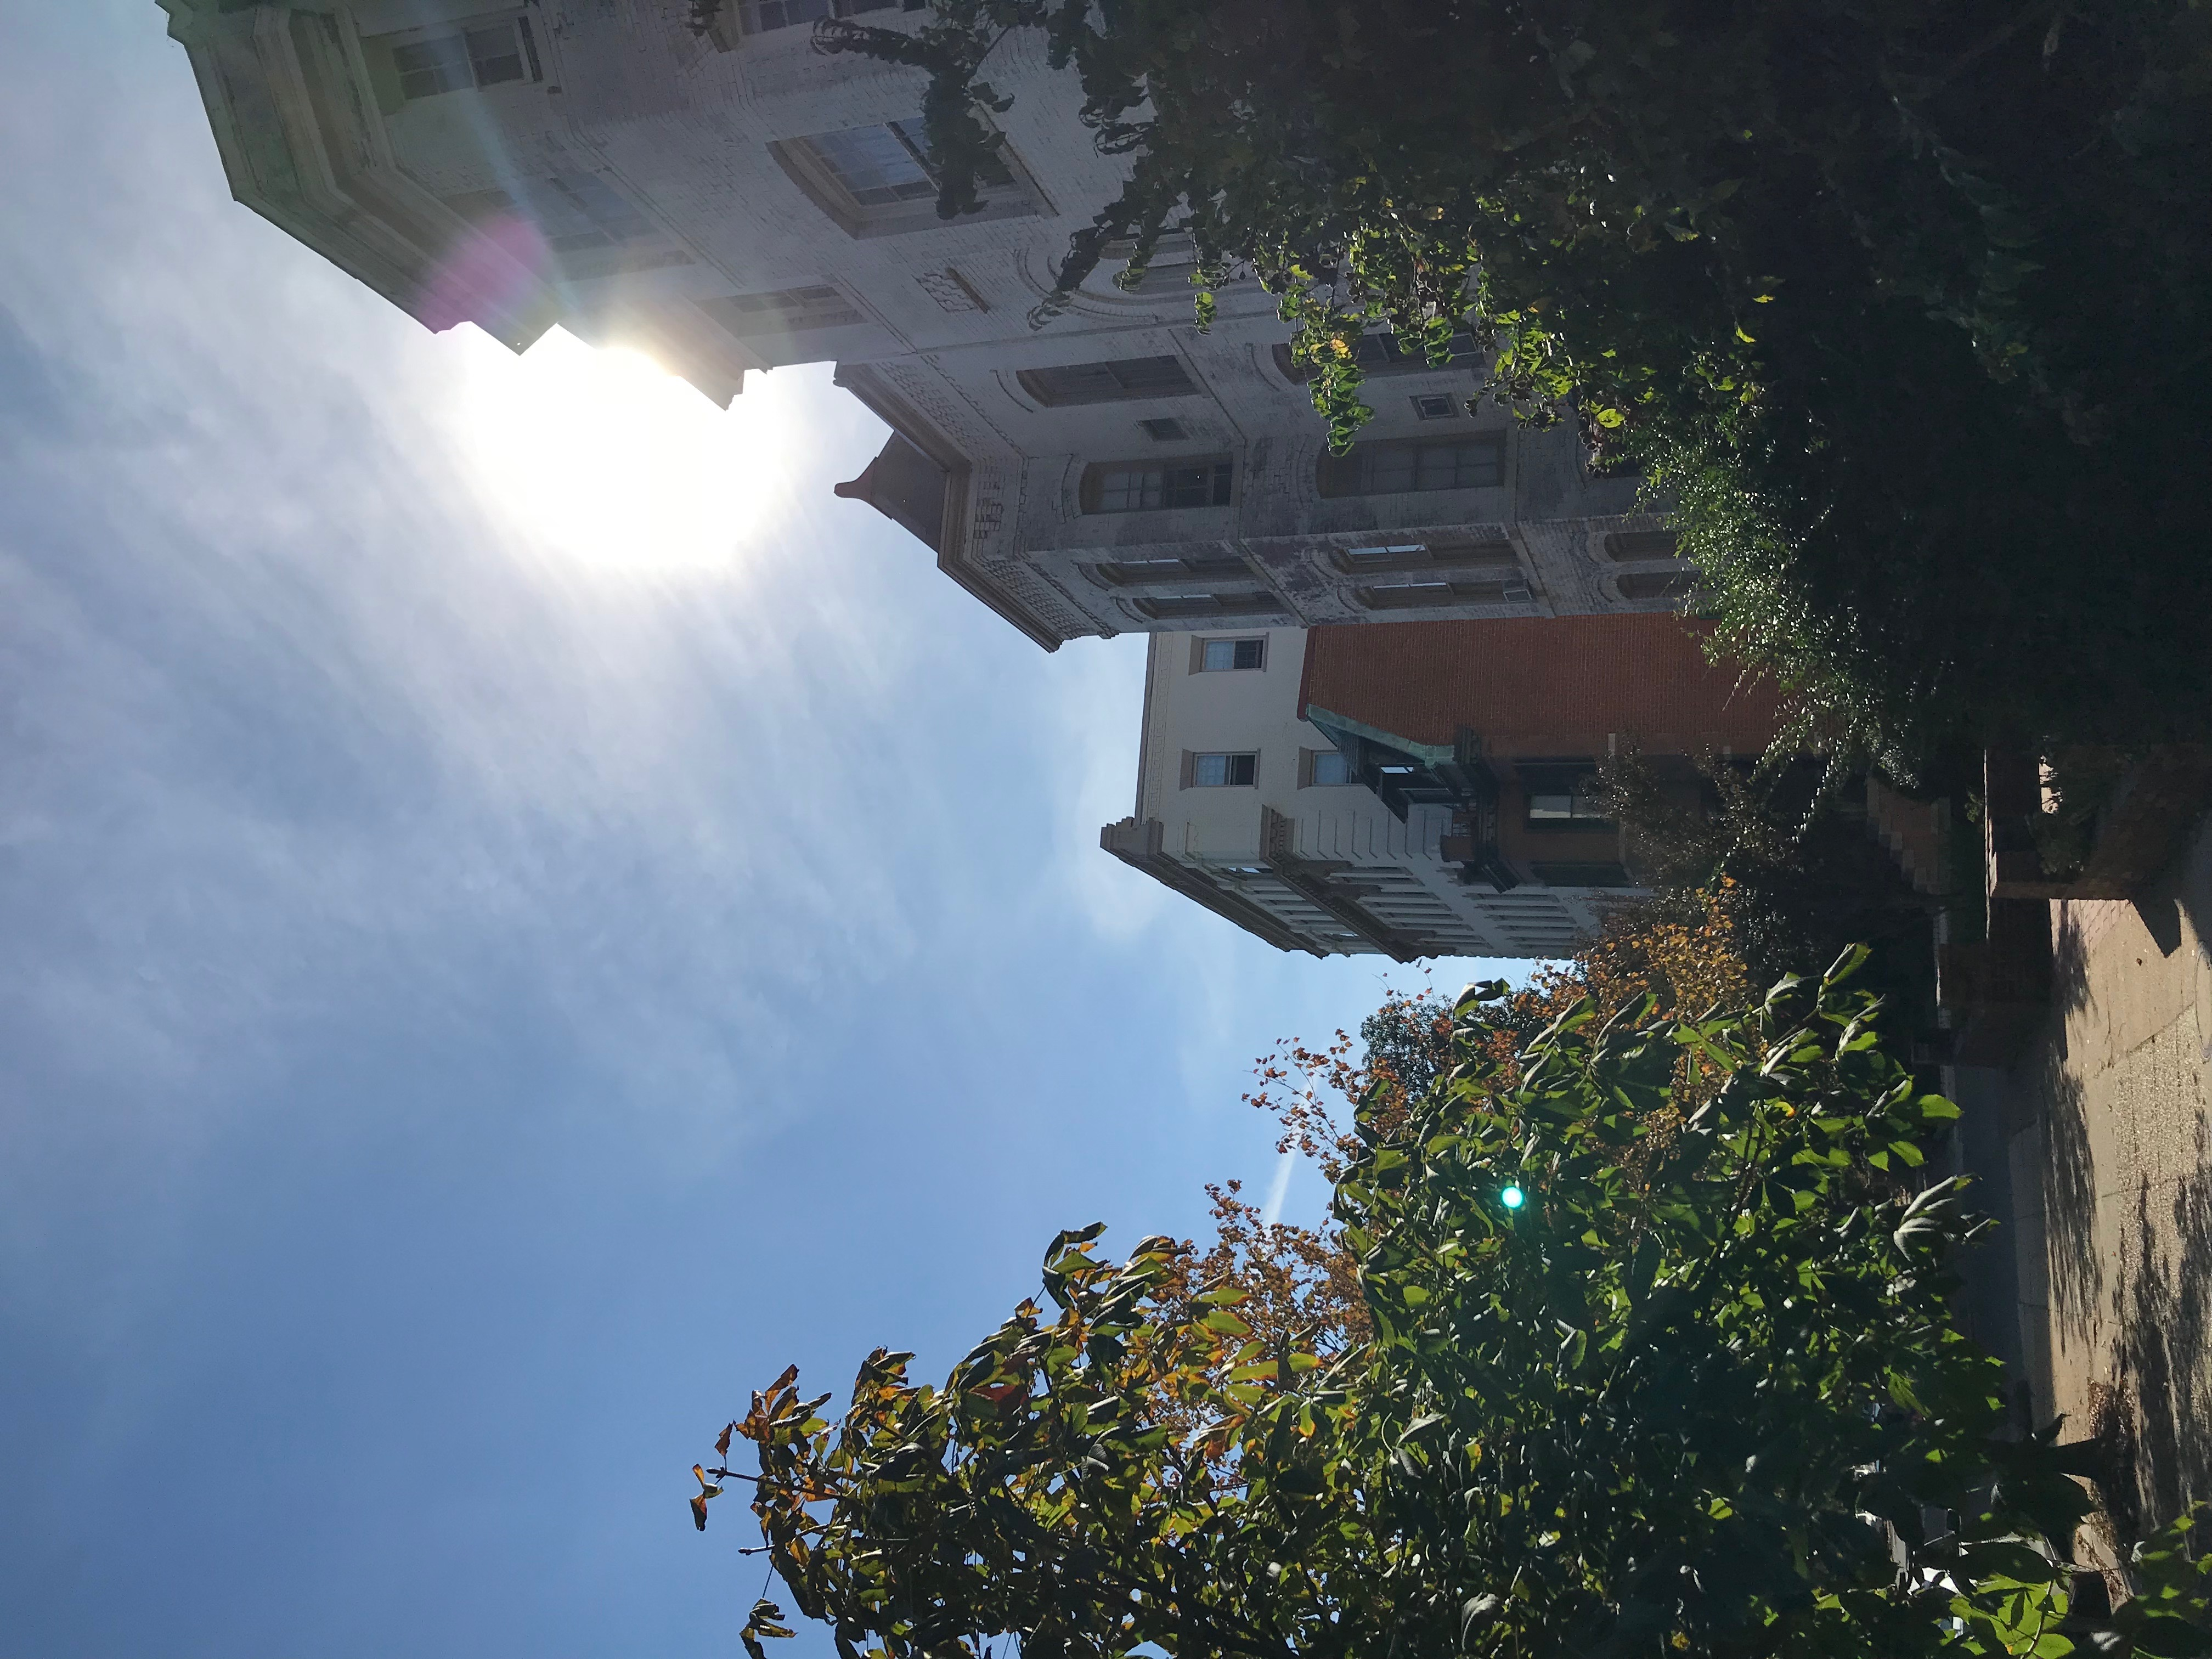flare: (1500, 1185, 1527, 1211)
